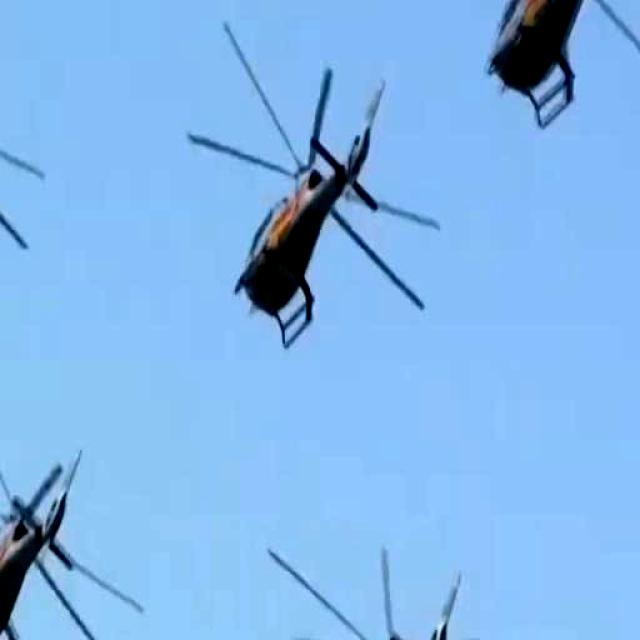drone: (234, 0, 395, 360), (485, 0, 640, 144), (0, 425, 98, 640), (325, 566, 489, 640)
